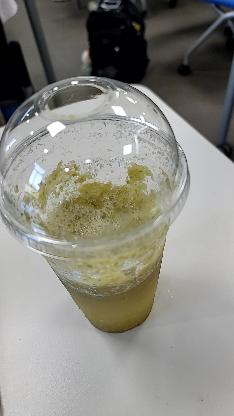Plastic Cup: (5, 72, 203, 336), (4, 75, 192, 260)
